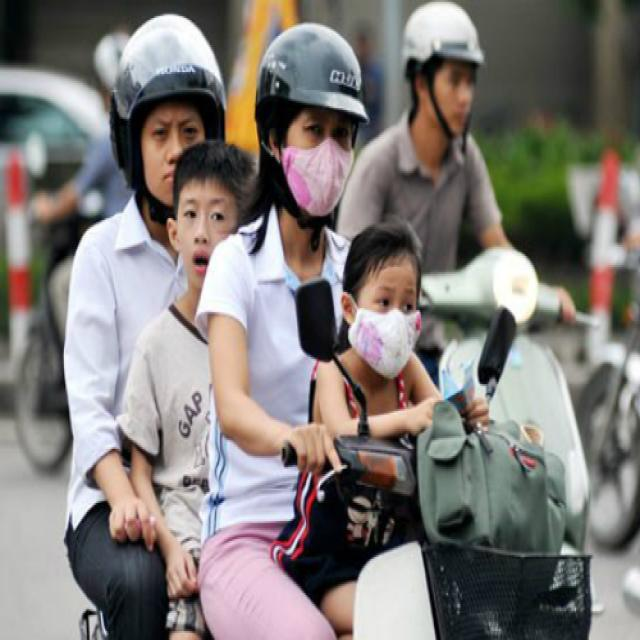1-2-helmet: (110, 13, 225, 190), (253, 22, 370, 122)
Cap: (164, 139, 257, 294)
Face and Hair: (341, 212, 426, 382)
